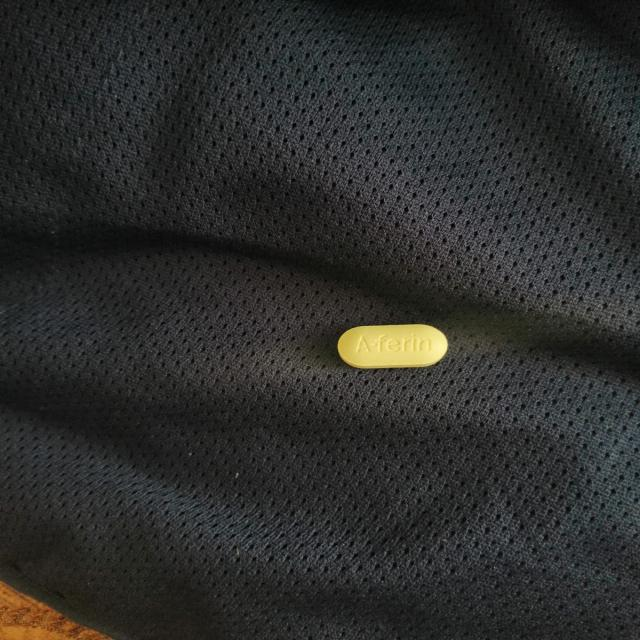pills: (324, 312, 453, 384)
